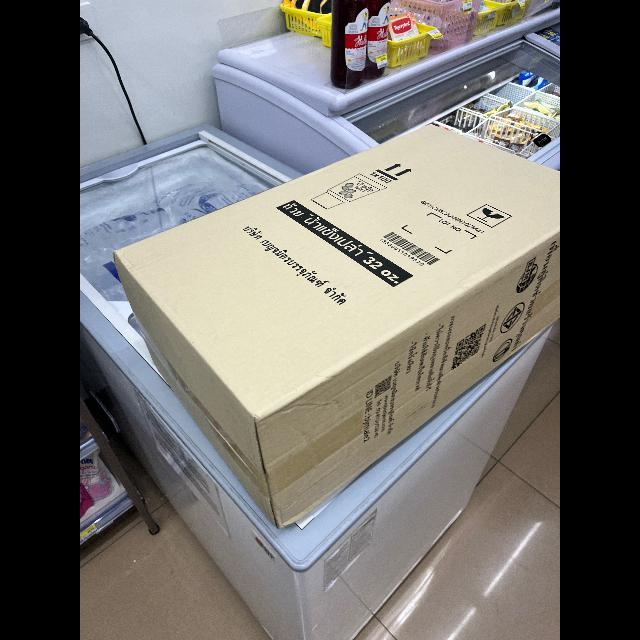cardboard_box: (114, 122, 560, 528)
